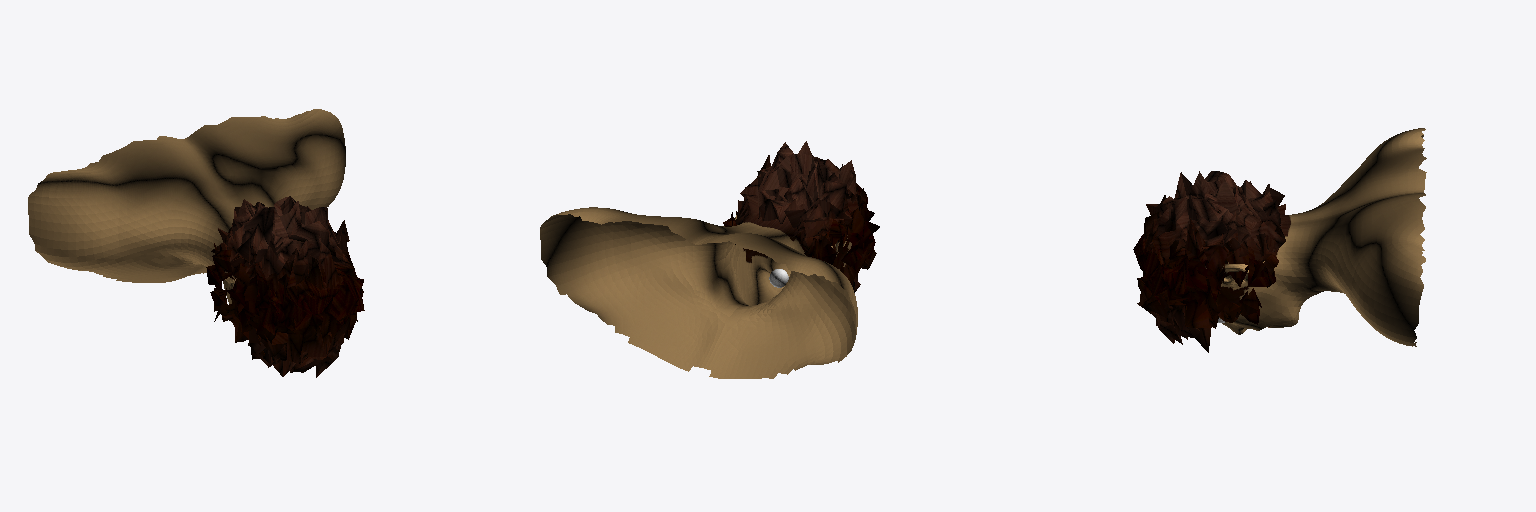
3 renders of one model, left to right at view 1: azimuth 30°, elevation 25°; view 2: azimuth 150°, elevation 25°; view 3: azimuth 270°, elevation 25°, orthographic.
Parts seen in each view (by area): view 1: hair; view 2: hair; view 3: hair.
Boxes of the visible parts, box(x1,y1,x2,y2) form: hair: box(28, 109, 364, 377); hair: box(540, 141, 879, 378); hair: box(1133, 128, 1426, 352).
Bounding box in the file's own units: 62.99 × 32.65 × 50.76.
Materials: 1 (1 with a texture image).